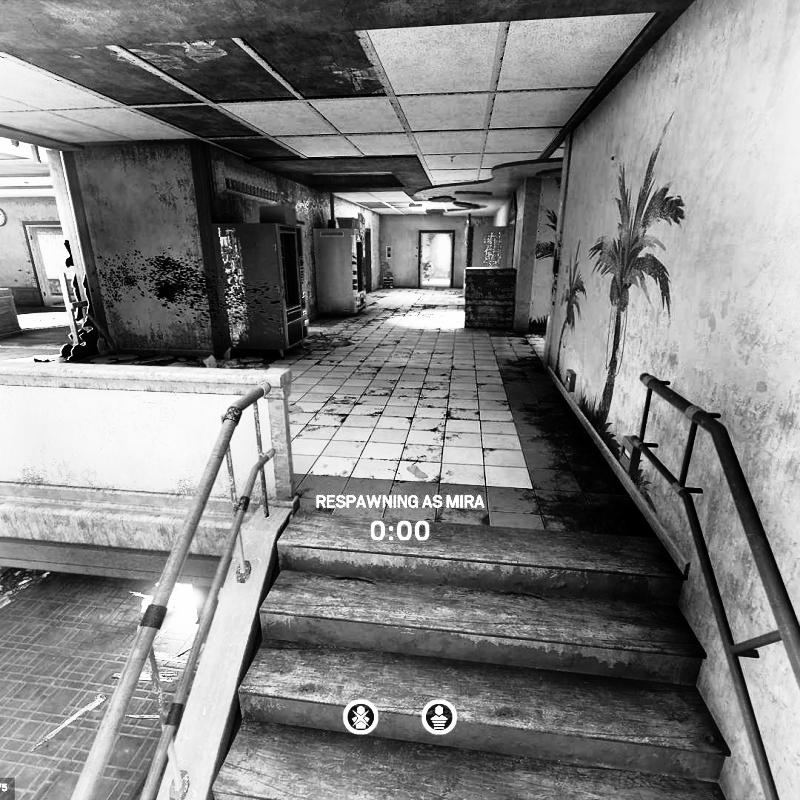Character: (421, 260, 434, 282)
Head: (428, 260, 431, 264)
